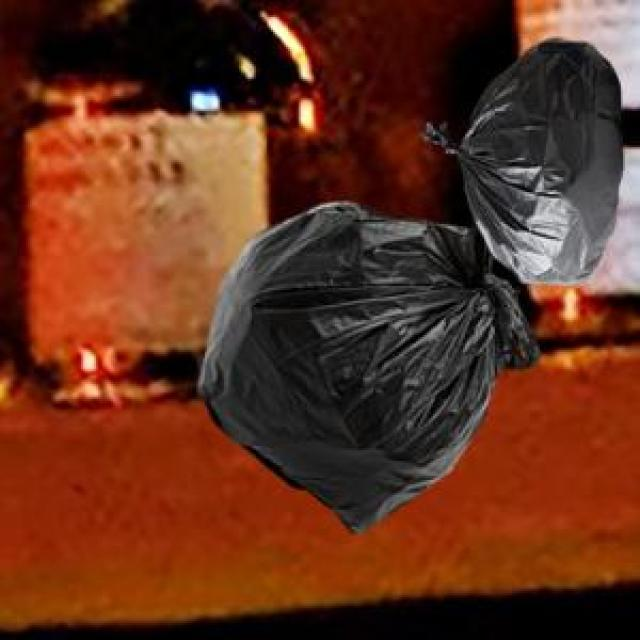waste: (200, 41, 621, 529)
